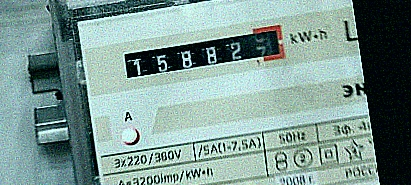1: (131, 56, 142, 75)
2: (228, 39, 243, 60)
5: (152, 52, 169, 73)
7: (253, 42, 267, 56)
8: (203, 42, 219, 65), (179, 47, 194, 69)
screen: (117, 21, 290, 86)
